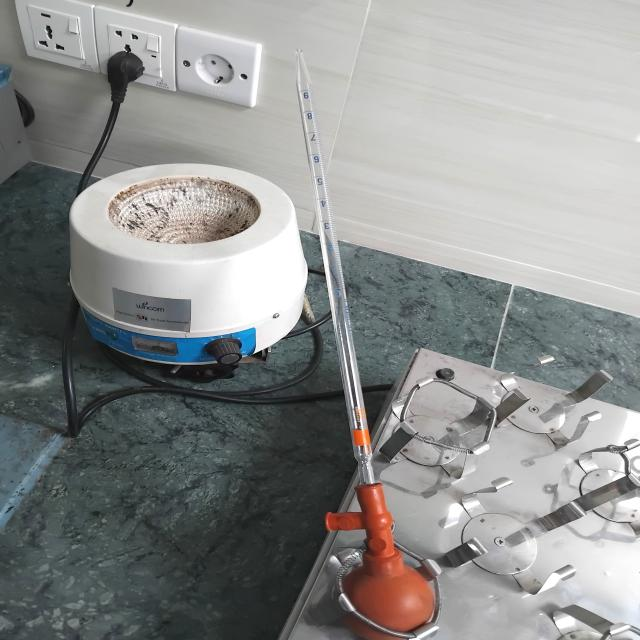Volumetric_Pipet: (258, 39, 474, 639)
